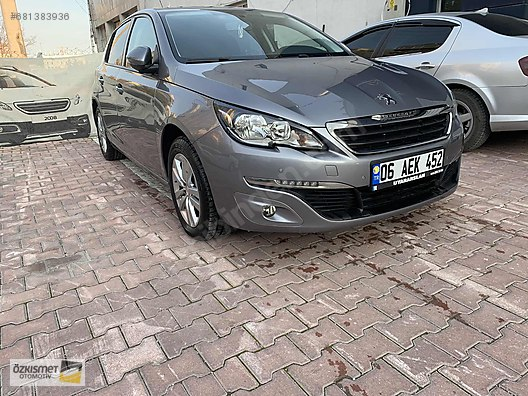peugeot: (92, 1, 462, 243)
